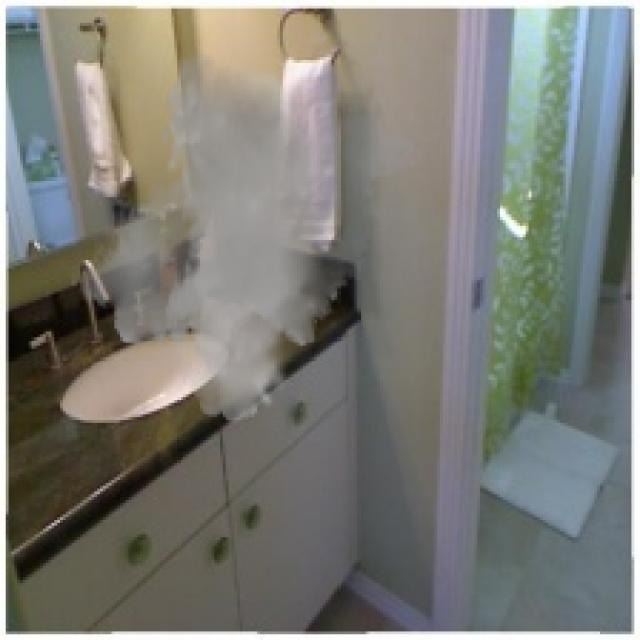Smoke: (68, 51, 426, 423)
